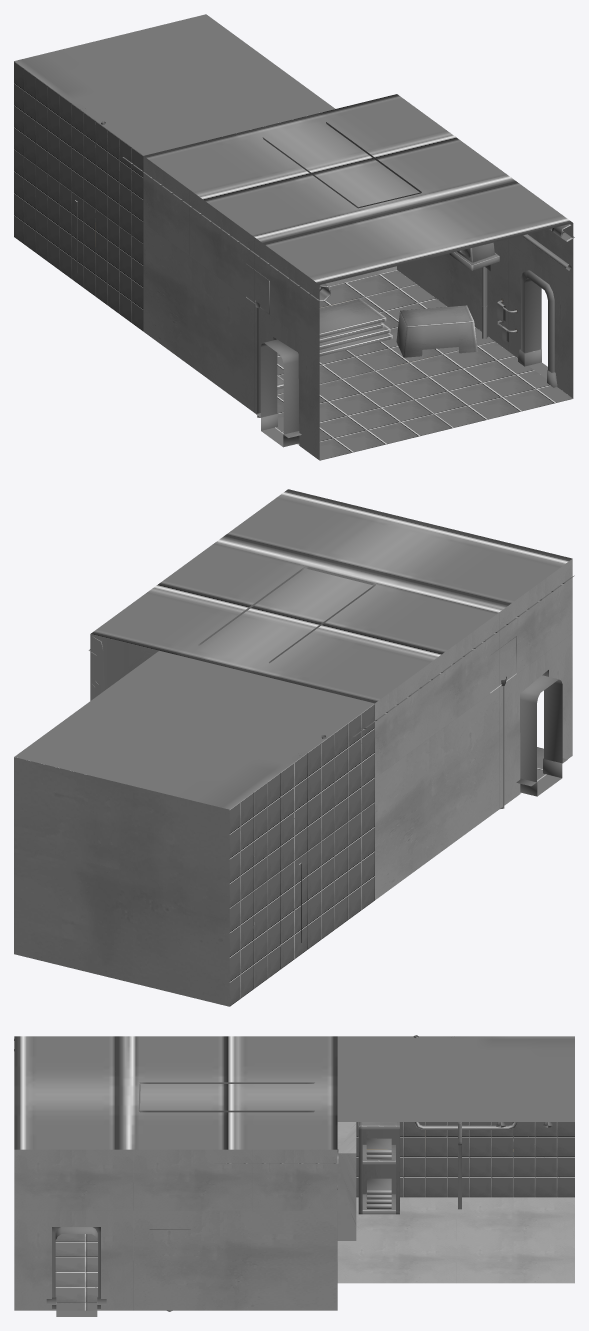
The model's file is MSH_endurance_room_L1_R1_optimized.fbx.
3 views of the same model, one above another, from view 1: azimuth 30°, elevation 25°; view 2: azimuth 150°, elevation 25°; view 3: azimuth 270°, elevation 25° (orthographic). The views are drawn at different scales.
Parts seen in each view (by area): view 1: lightmap1, lightmap-1; view 2: lightmap1, lightmap-1; view 3: lightmap1, lightmap-1.
Part boxes in pixels (x1,y1,x2,y2): lightmap1: (14, 14, 574, 460); lightmap-1: (260, 278, 547, 447); lightmap1: (14, 489, 574, 1006); lightmap-1: (520, 675, 562, 796); lightmap1: (14, 1035, 574, 1311); lightmap-1: (55, 1227, 97, 1316).
Size of the model in its own units: 10.3 by 6.28 by 19.43.
